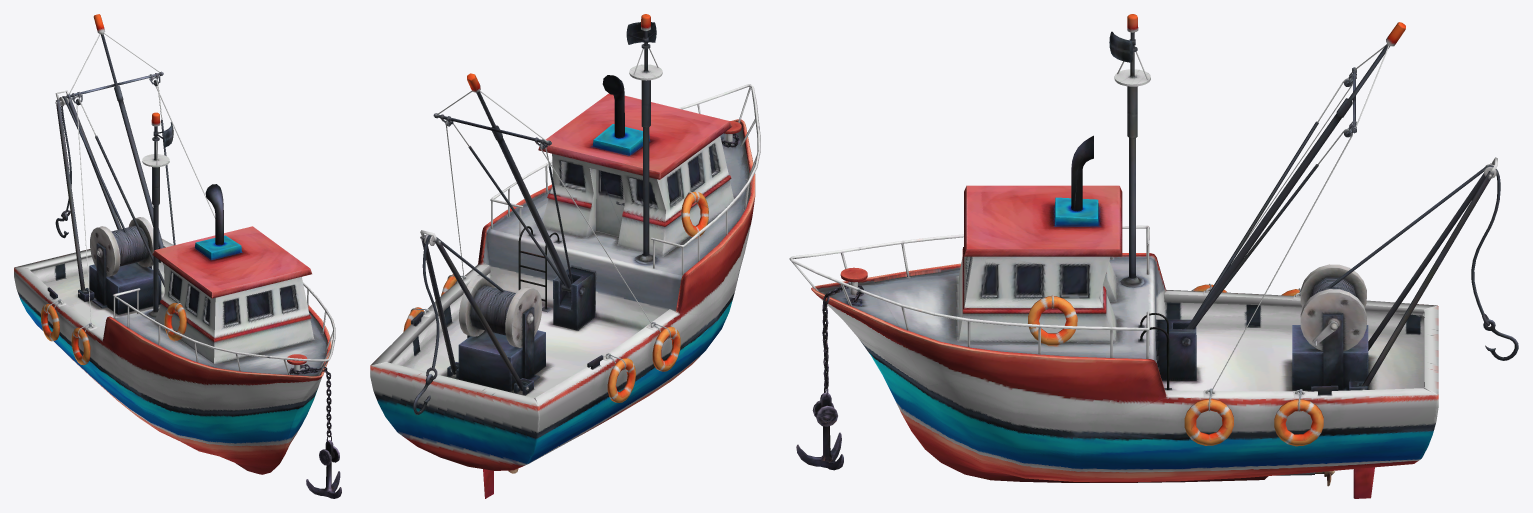
The model's file is Boat.fbx.
3 views of the same model, side by side, from view 1: azimuth 30°, elevation 25°; view 2: azimuth 150°, elevation 25°; view 3: azimuth 270°, elevation 25° (orthographic). The views are drawn at different scales.
Parts seen in each view (by area): view 1: mesh_id20, mesh_id19; view 2: mesh_id20, mesh_id19; view 3: mesh_id20, mesh_id19.
Part boxes in pixels (<box>): mesh_id20: <box>14,239,341,498</box>; mesh_id19: <box>47,14,335,363</box>; mesh_id20: <box>370,87,756,470</box>; mesh_id19: <box>410,14,760,498</box>; mesh_id20: <box>791,234,1438,482</box>; mesh_id19: <box>789,14,1518,498</box>.
Size of the model in its own units: 39.01 by 71.9 by 100.
Materials: 1 (1 with a texture image).
